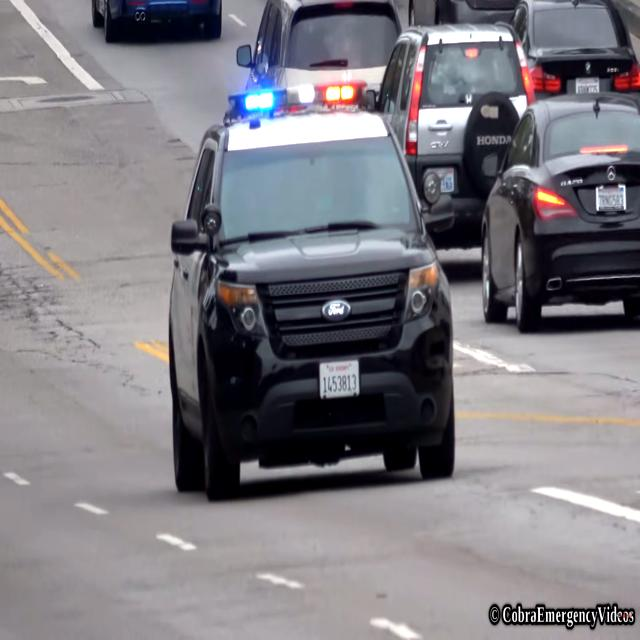emergency-vehicles: (142, 56, 484, 538)
